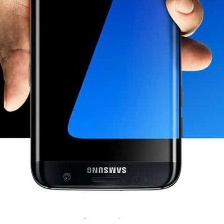phone: (26, 0, 185, 195)
